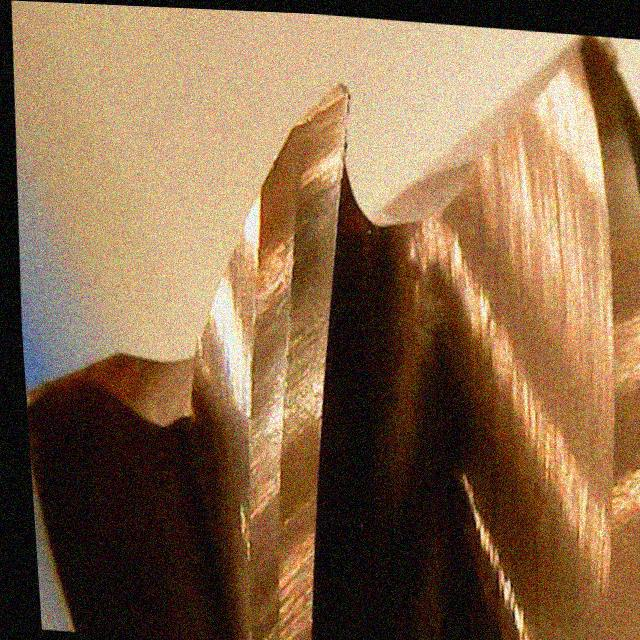Tool-wear-class-0: (215, 67, 381, 414)
